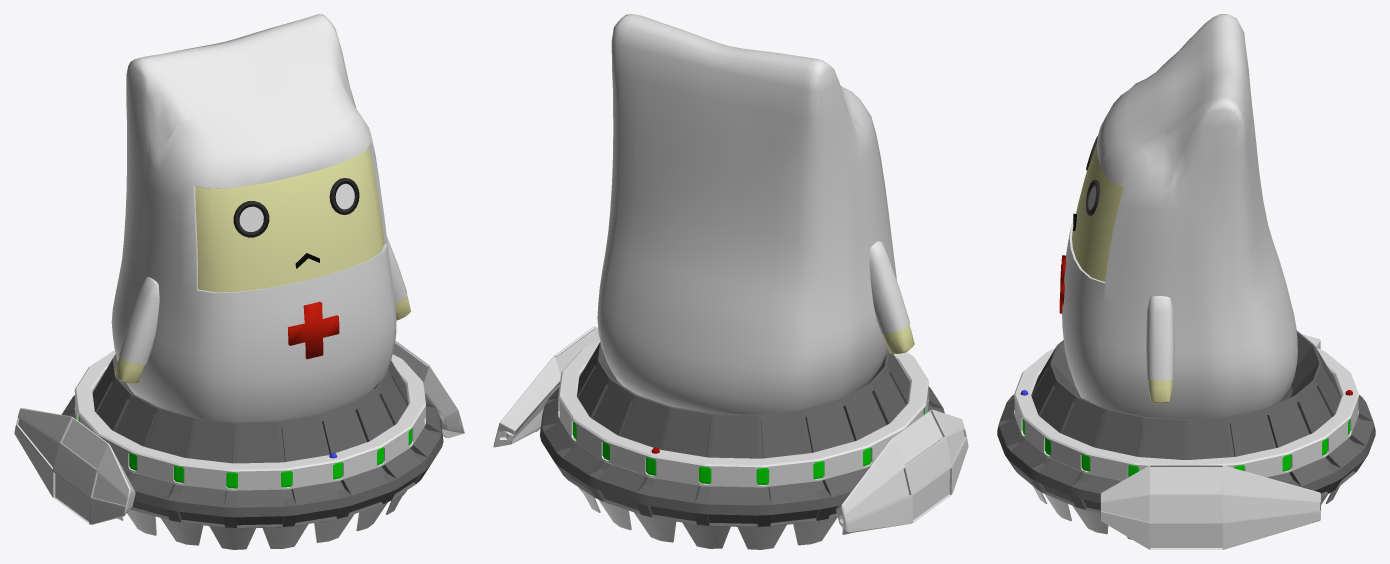
The model's file is alienMedic 1.fbx.
3 views of the same model, side by side, from view 1: azimuth 30°, elevation 25°; view 2: azimuth 150°, elevation 25°; view 3: azimuth 270°, elevation 25° (orthographic). The views are drawn at different scales.
Visible parts, largest first — view 1: medic; view 2: medic; view 3: medic.
Boxes of the visible parts, bbox=[...] form: medic: bbox=[14, 14, 464, 549]; medic: bbox=[493, 14, 968, 549]; medic: bbox=[997, 14, 1375, 549].
Size of the model in its own units: 183 by 211 by 171.
